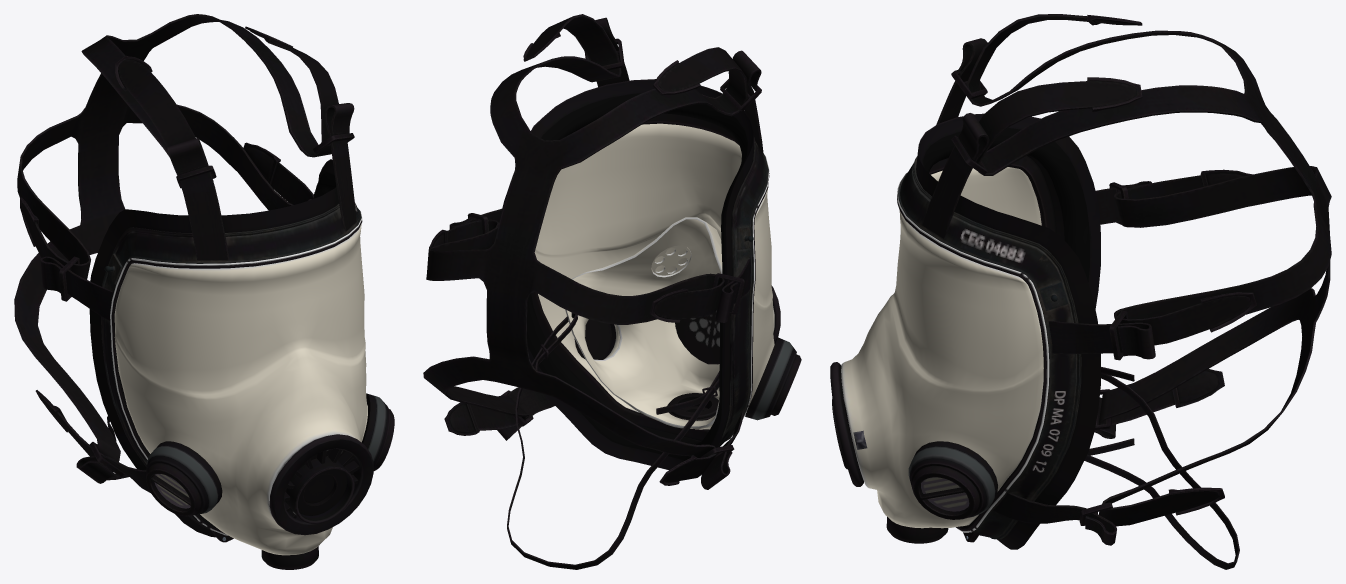
Rendered from chemical_mask.fbx.
3 views of the same model, side by side, from view 1: azimuth 30°, elevation 25°; view 2: azimuth 150°, elevation 25°; view 3: azimuth 270°, elevation 25° (orthographic). The views are drawn at different scales.
Parts seen in each view (by area): view 1: node_d988891a_7fd4_4f87_a3b3_01c441086766_mesh0, node_ac3a606f_7a91_4112_8f1c_4c7a34ae59fa_mesh0; view 2: node_d988891a_7fd4_4f87_a3b3_01c441086766_mesh0, node_ac3a606f_7a91_4112_8f1c_4c7a34ae59fa_mesh0, node_524a8711_8d58_44dd_b23b_674b8595869e_mesh0; view 3: node_d988891a_7fd4_4f87_a3b3_01c441086766_mesh0, node_ac3a606f_7a91_4112_8f1c_4c7a34ae59fa_mesh0.
Boxes of the visible parts, <box> form: node_d988891a_7fd4_4f87_a3b3_01c441086766_mesh0: <box>14,14,394,569</box>; node_ac3a606f_7a91_4112_8f1c_4c7a34ae59fa_mesh0: <box>114,224,367,555</box>; node_d988891a_7fd4_4f87_a3b3_01c441086766_mesh0: <box>423,14,801,569</box>; node_ac3a606f_7a91_4112_8f1c_4c7a34ae59fa_mesh0: <box>534,123,774,412</box>; node_524a8711_8d58_44dd_b23b_674b8595869e_mesh0: <box>565,217,722,429</box>; node_d988891a_7fd4_4f87_a3b3_01c441086766_mesh0: <box>830,14,1331,569</box>; node_ac3a606f_7a91_4112_8f1c_4c7a34ae59fa_mesh0: <box>841,167,1043,528</box>.
Size of the model in its own units: 125 by 200 by 178.
Materials: 2 (2 with a texture image).
